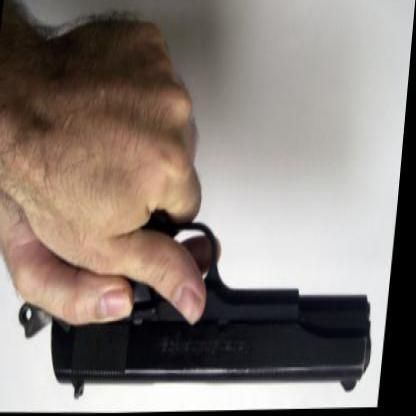pistol: (1, 196, 390, 406)
